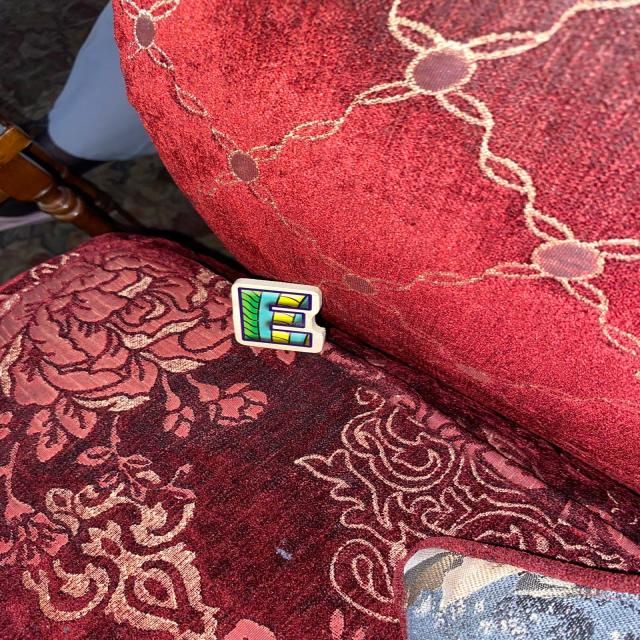E: (232, 278, 325, 353)
